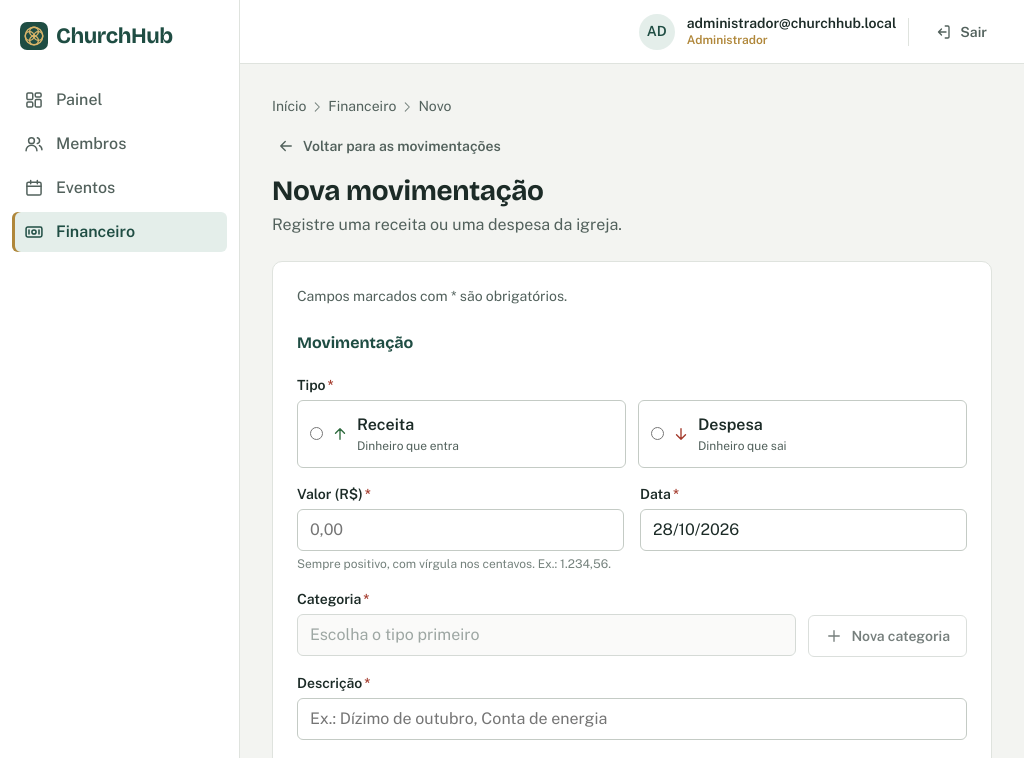
Test: cadastro de movimentação › nova categoria pela modal (A/T): avisa nome repetido e, criada, fica escolhida
Expected: the heading "Nova movimentação" is shown, [272,174,544,208]
Click the radio button labelled "Despesa Dinheiro que sai" at (658, 434), box [651,427,664,440]
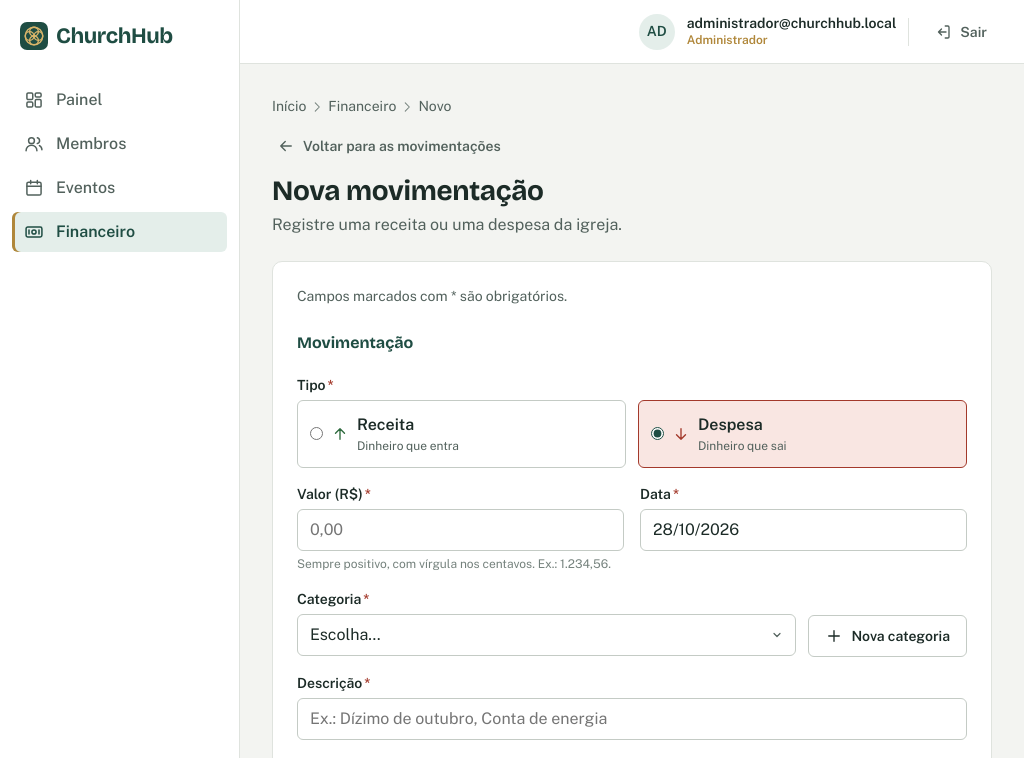
Expected: the dropdown labelled "Categoria*" is enabled, [297,614,796,656]
Click the button "Nova categoria" at (888, 636), box [808,615,967,657]
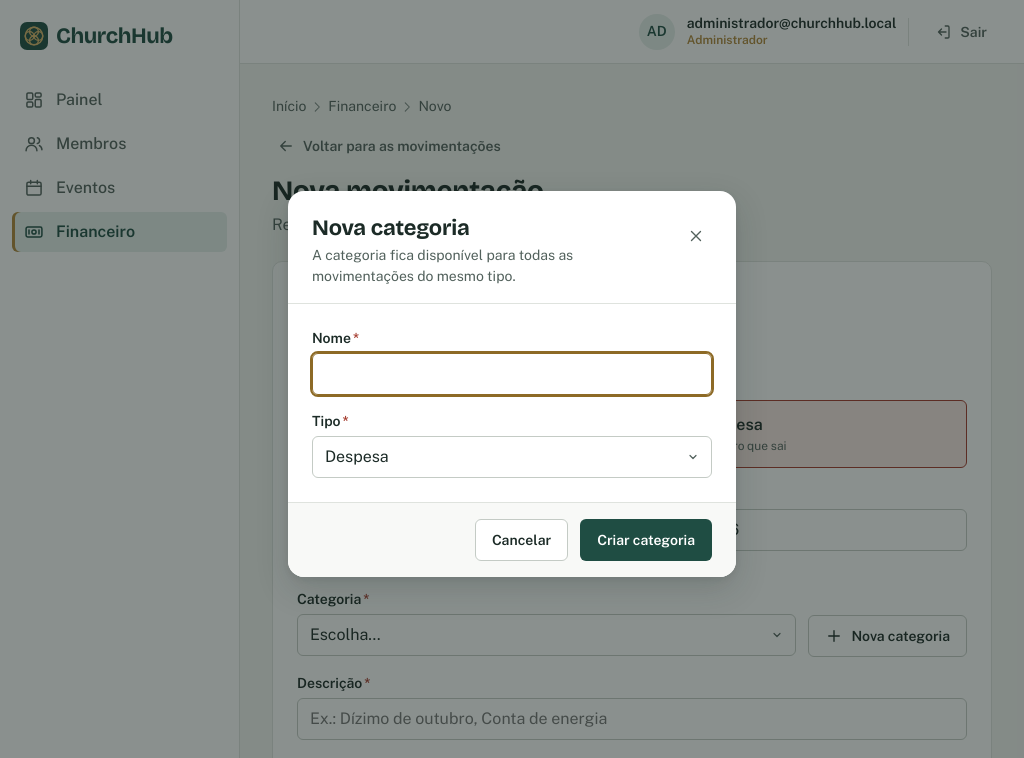
Expected: the dropdown labelled "Tipo*" shows "Despesa", [312,436,712,478]
Type "manutenção" into the field labelled "Nome*" at (512, 374), box [312,353,712,395]
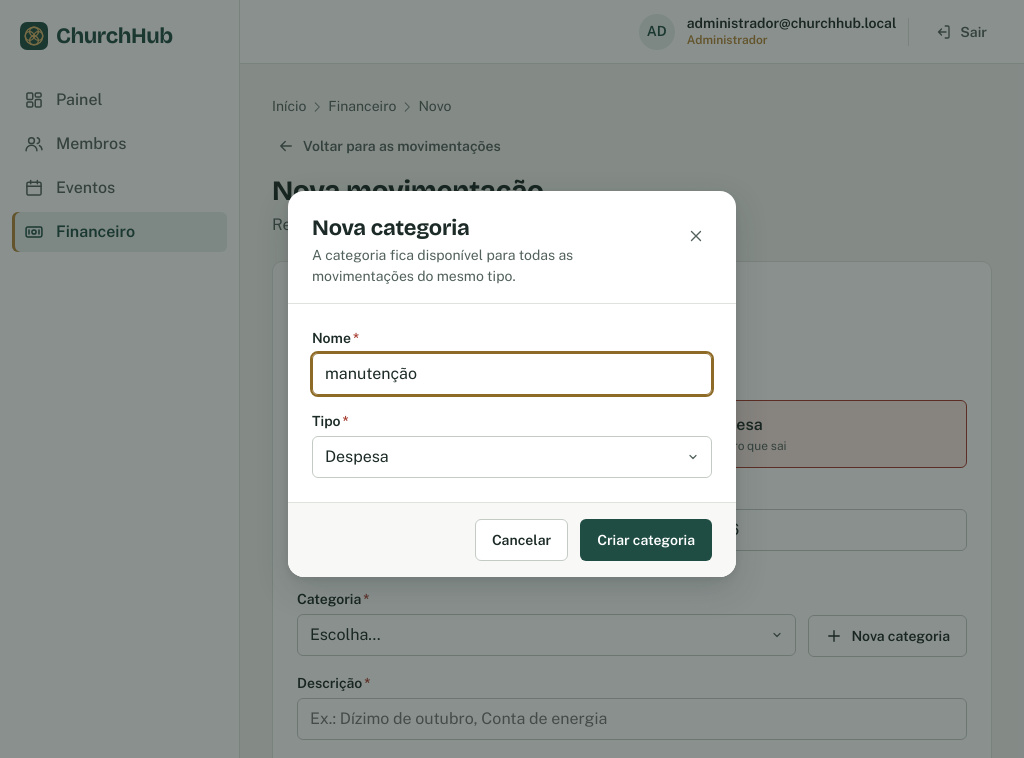
Click the button "Criar categoria" at (646, 540), box [580,519,712,561]
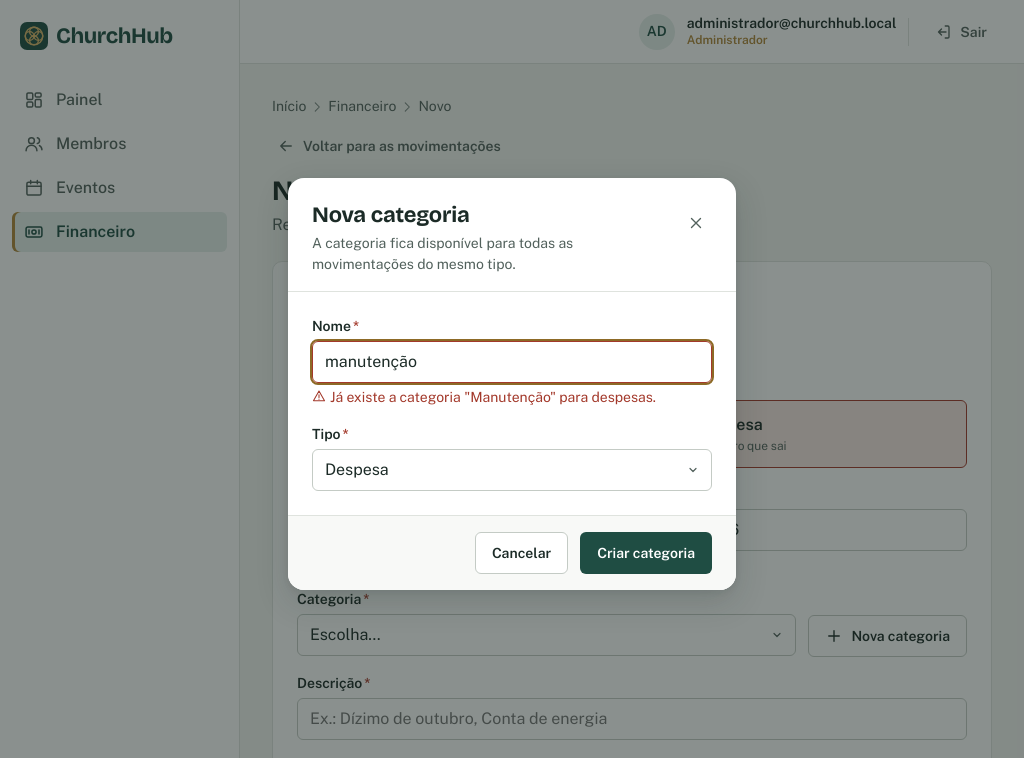
Expected: the text "Já existe a categoria \"Manutenção\" para despesas." is shown, [312,387,712,408]
Replace the text in the field labelled "Nome*" with "  Material de limpeza " at (512, 362), box [312,341,712,383]
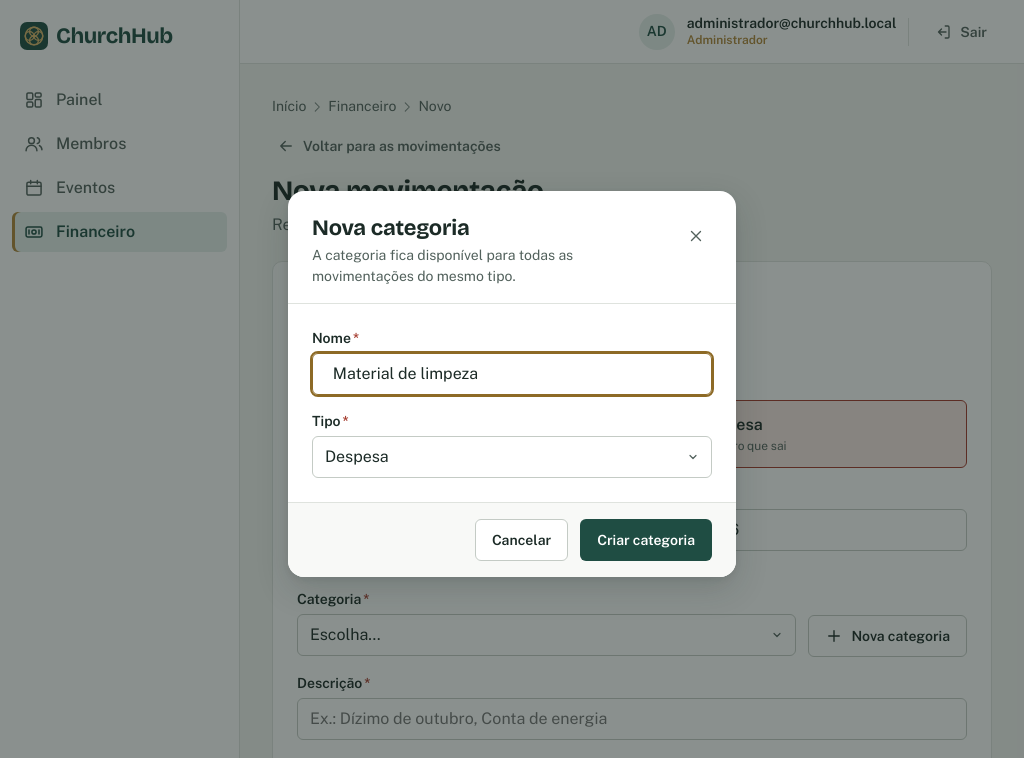
Click the button "Criar categoria" at (646, 540), box [580,519,712,561]
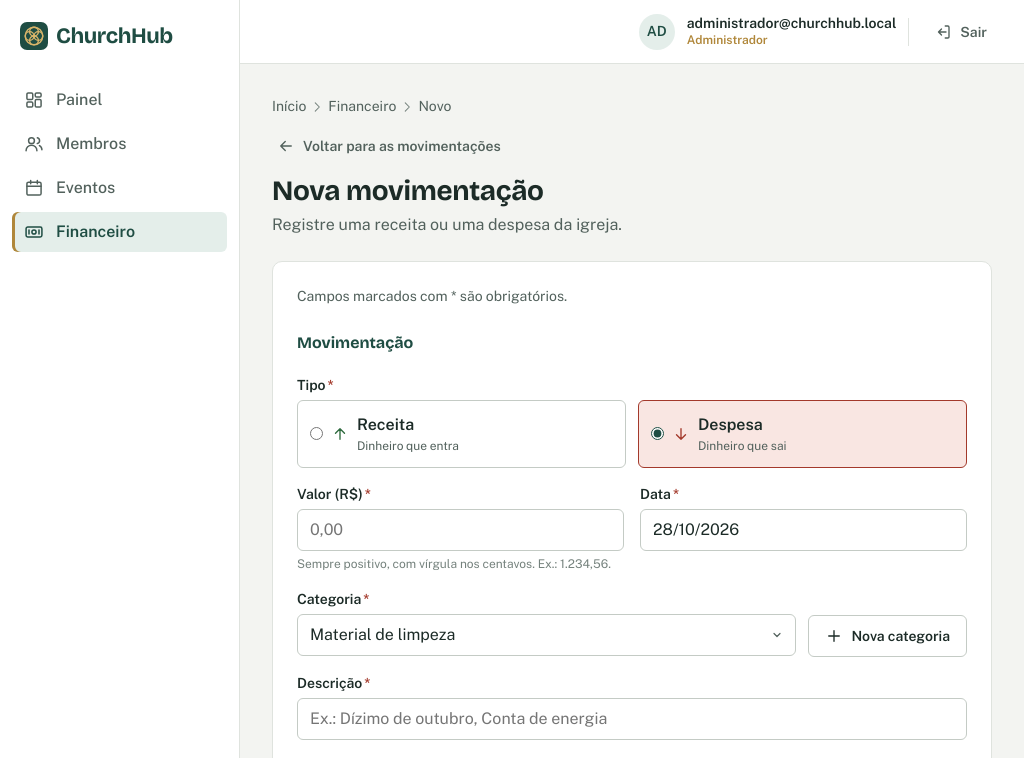
Expected: the dialog is gone
